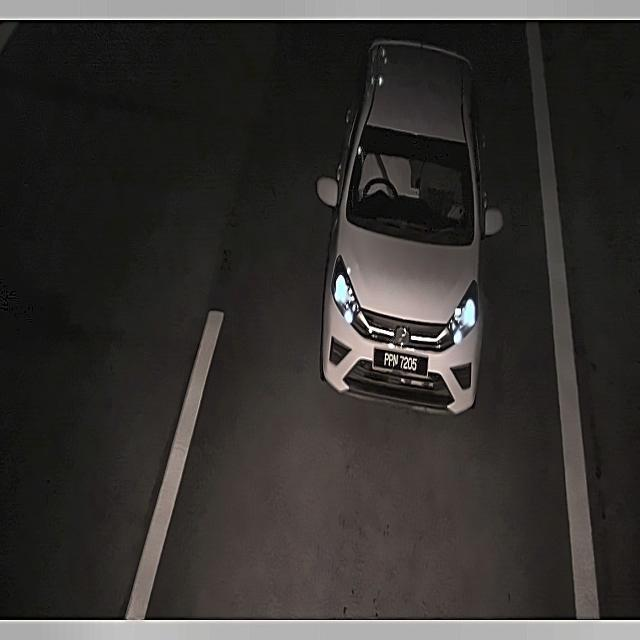car: (370, 345, 432, 385)
